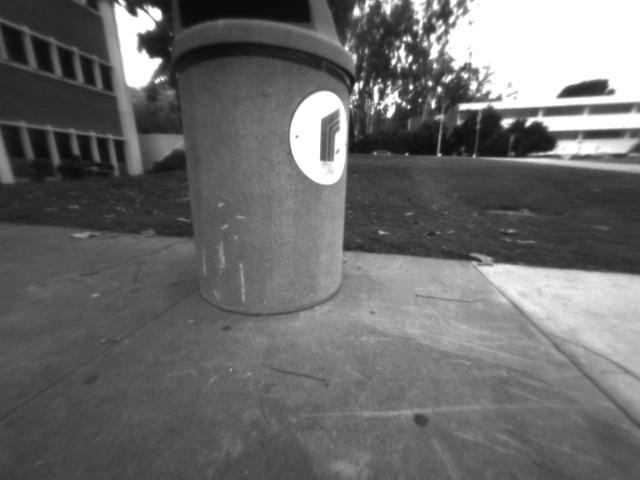trashcan: (155, 1, 377, 326)
